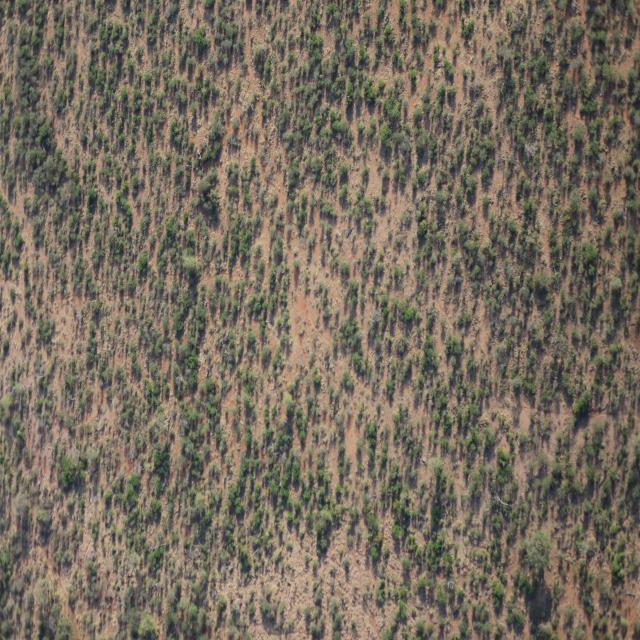elephant: (196, 149, 203, 166)
